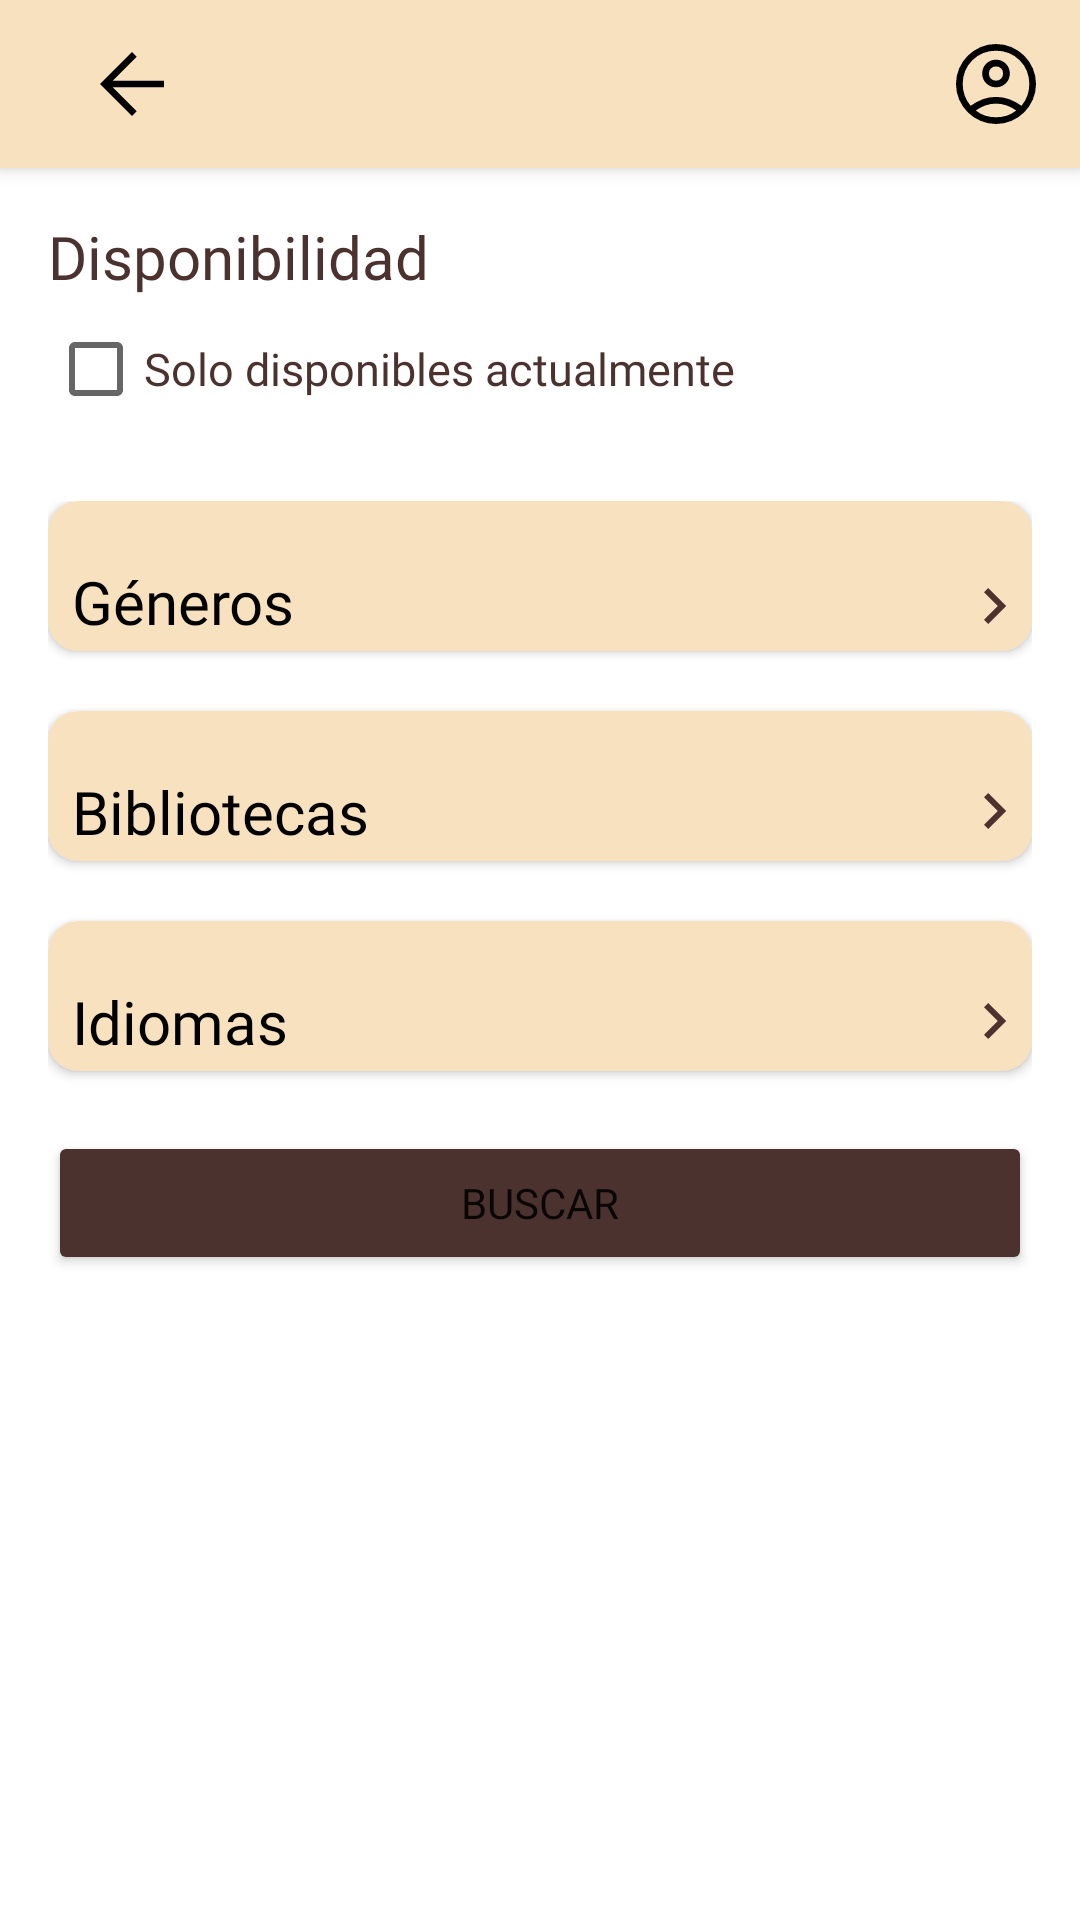

Icon click points for this 1080x1920 phone screenshot, format point (x, y):
back: point (132, 84)
